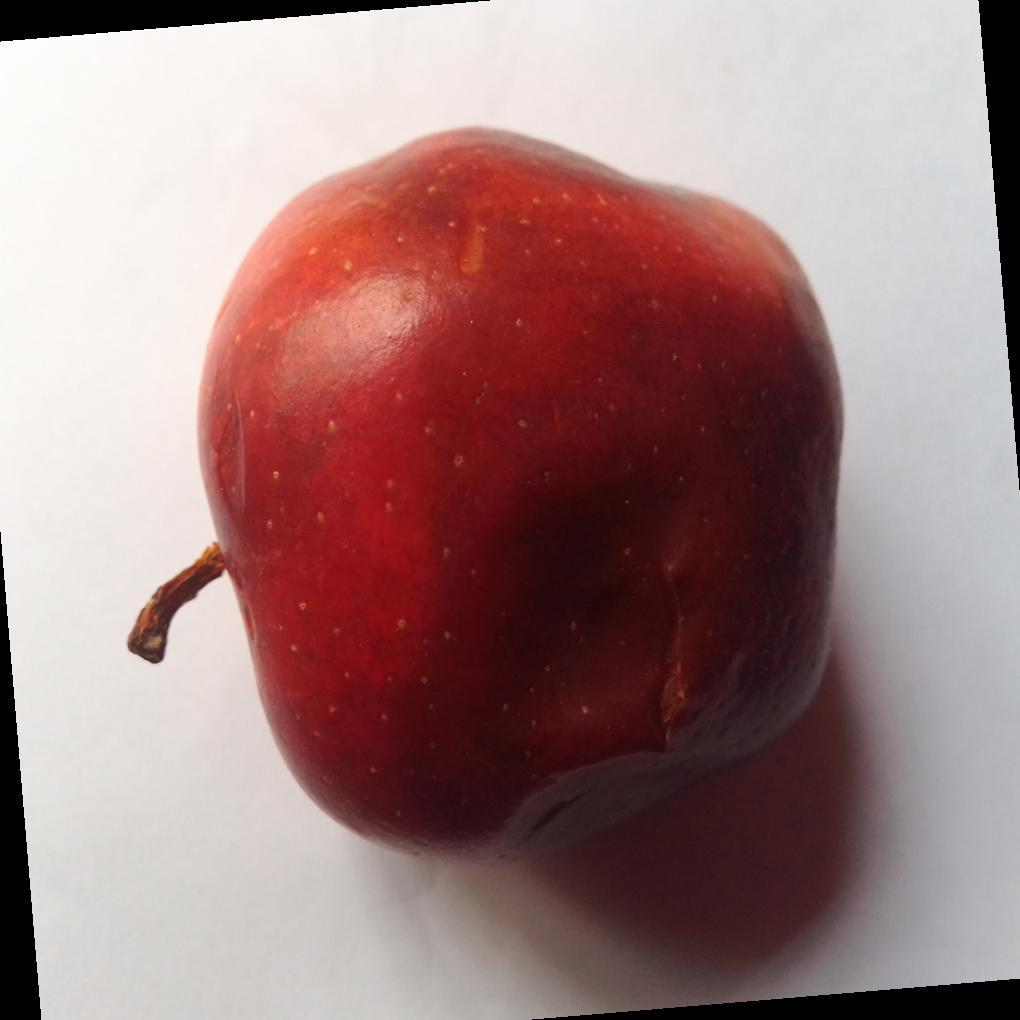FreshOrange: (128, 127, 846, 866)
